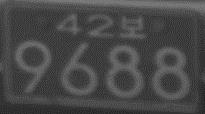2: (85, 12, 115, 38)
4: (55, 11, 82, 36)
6: (59, 41, 98, 97)
8: (103, 43, 145, 100), (151, 45, 191, 101)
9: (14, 38, 53, 94)
보: (118, 13, 145, 39)
